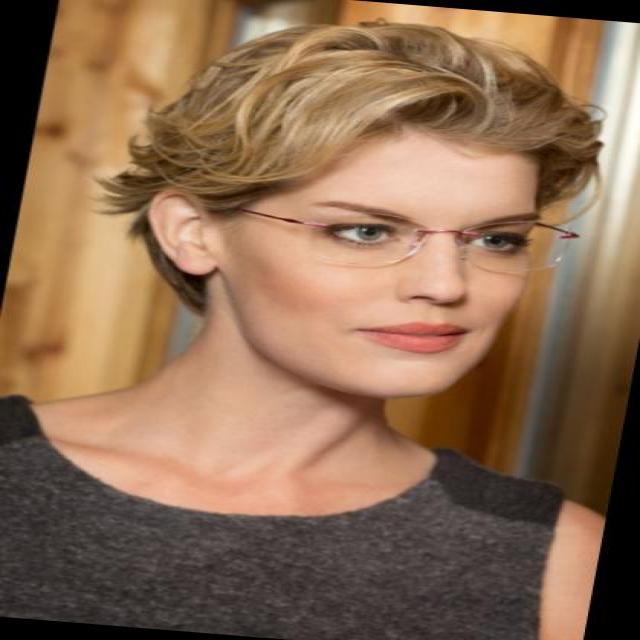glasses: (266, 197, 577, 286)
